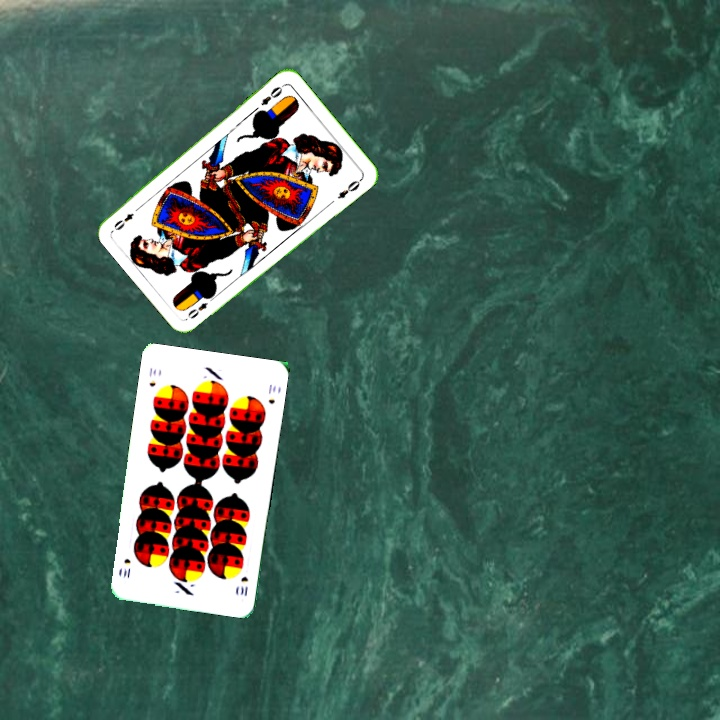EO: (183, 291, 218, 321), (257, 81, 287, 108)
S10: (236, 572, 251, 598), (145, 363, 159, 389)
